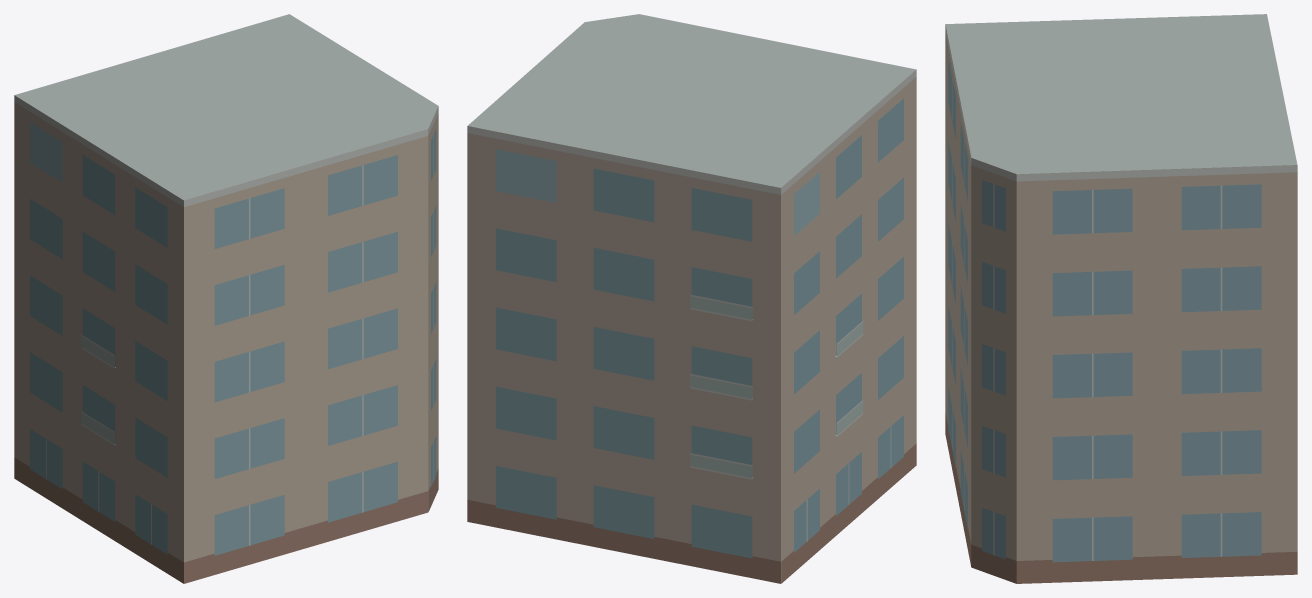
File: survey-upis-32537652.glb
The picture shows the model from 3 angles, left to right: view 1: azimuth 30°, elevation 25°; view 2: azimuth 150°, elevation 25°; view 3: azimuth 270°, elevation 25°; orthographic projection. The views are drawn at different scales.
Visible parts, largest first — view 1: survey-upis-32537652.tmp; view 2: survey-upis-32537652.tmp; view 3: survey-upis-32537652.tmp.
Boxes of the visible parts, <box> form: survey-upis-32537652.tmp: <box>14,14,438,583</box>; survey-upis-32537652.tmp: <box>467,14,916,583</box>; survey-upis-32537652.tmp: <box>945,14,1297,583</box>.
Size of the model in its own units: 11.58 by 13.79 by 10.75.
